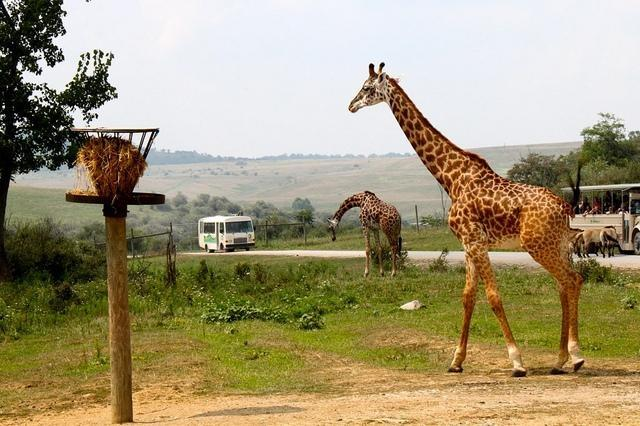bus: (572, 182, 640, 251), (198, 214, 255, 252)
truck: (560, 184, 640, 254), (196, 213, 256, 252)
